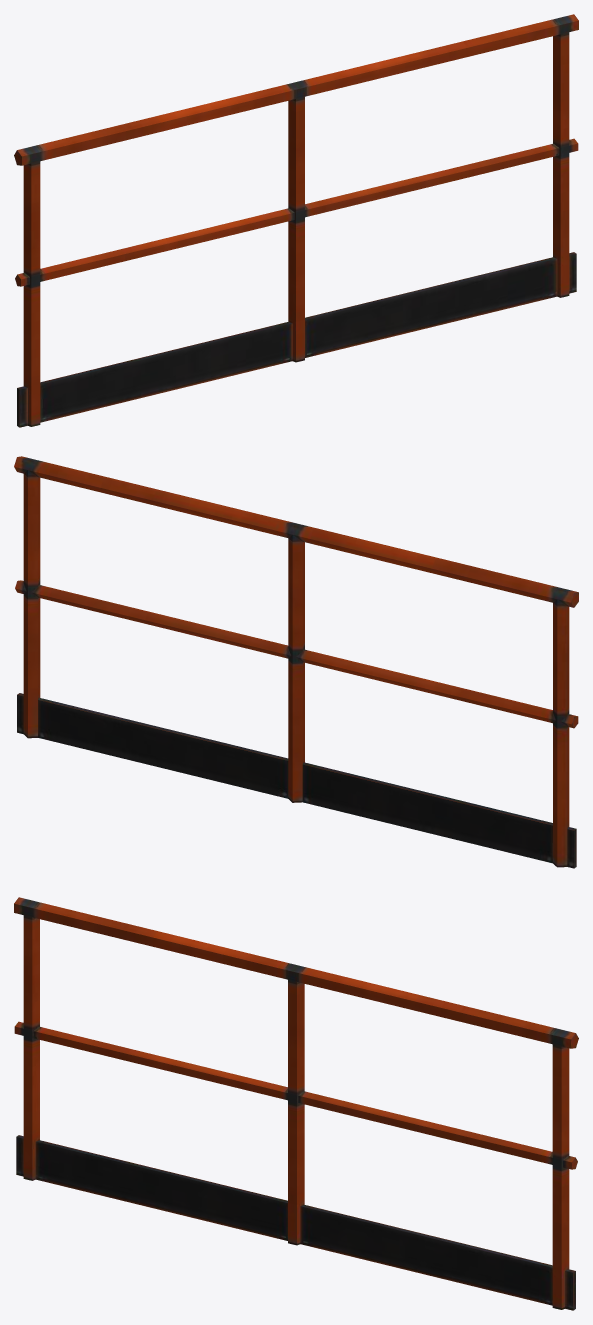
Rendered from railing.glb.
3 views of the same model, one above another, from view 1: azimuth 30°, elevation 25°; view 2: azimuth 150°, elevation 25°; view 3: azimuth 330°, elevation 25° (orthographic).
Visible parts, largest first — view 1: railing; view 2: railing; view 3: railing.
Part boxes in pixels (x1,y1,x2,y2): railing: (14, 14, 578, 427); railing: (14, 456, 578, 868); railing: (14, 897, 578, 1310).
Size of the model in its own units: 2 by 0.9457 by 0.0488.
Materials: 1 (1 with a texture image).
